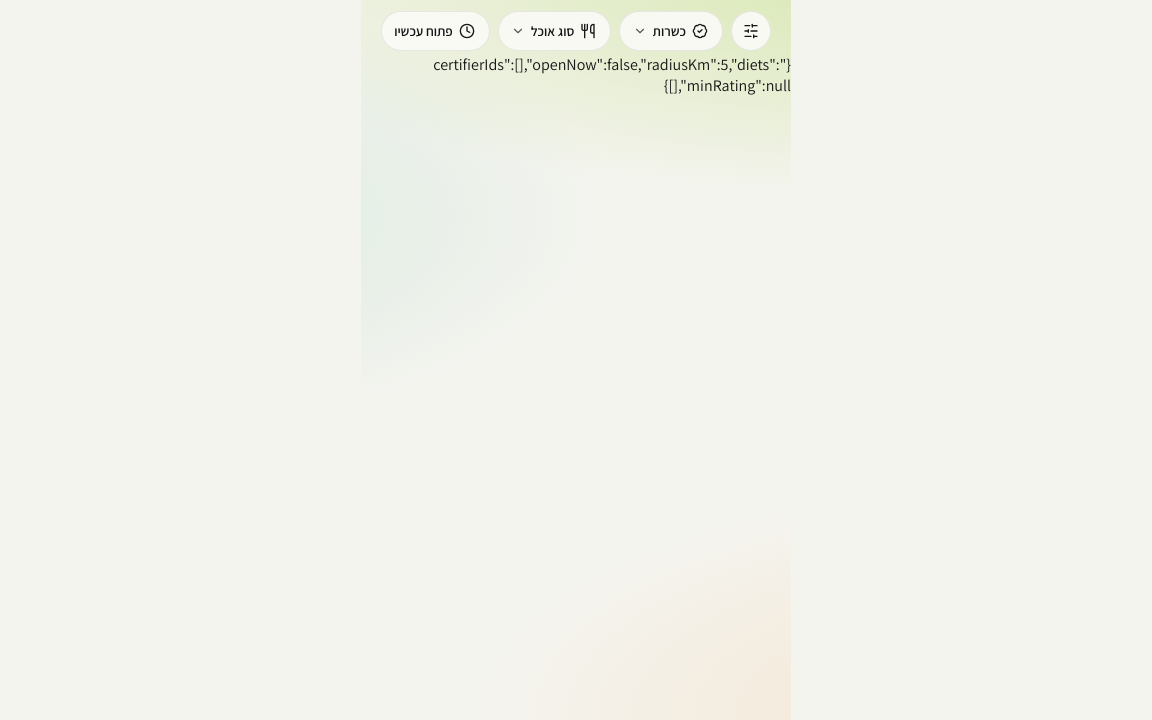
filter sheet › stages its changes until they are applied
Click the button named "סינון תוצאות" at (751, 31), box [731,11,771,51]
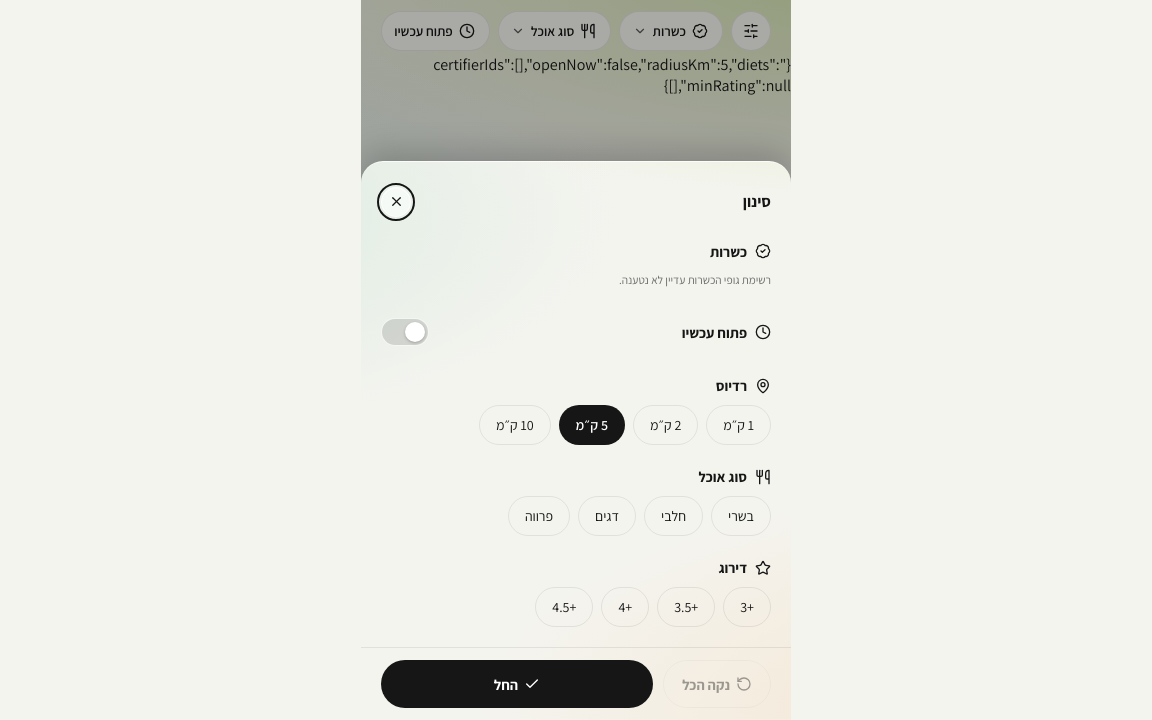
Click the button "חלבי" at (674, 516), box [644,496,703,536]
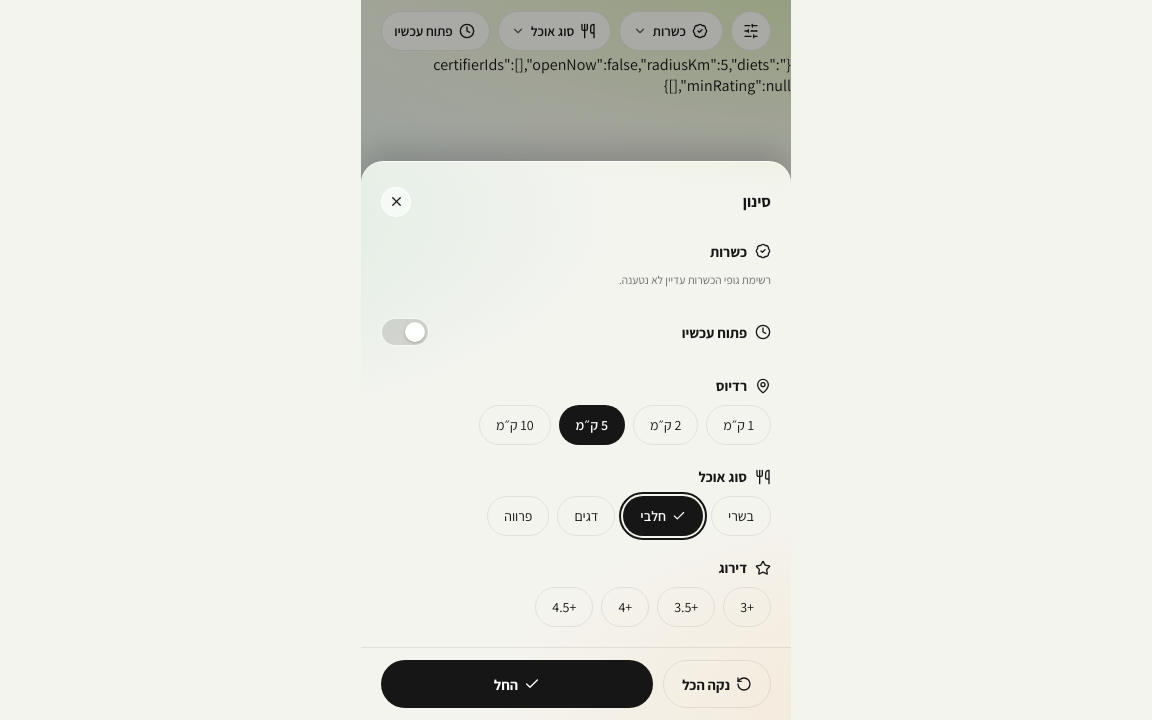
Click the switch labelled "פתוח עכשיו" at (714, 332), box [381,310,771,354]
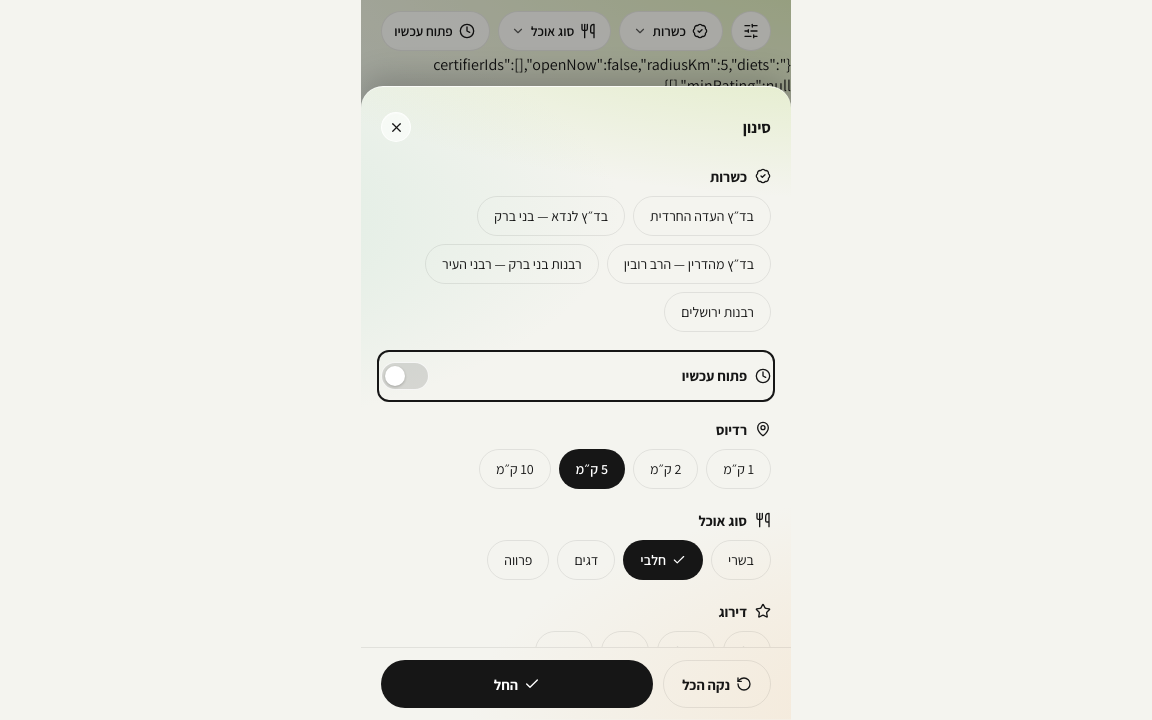
Click the button "החל" at (517, 684), box [381,660,653,708]
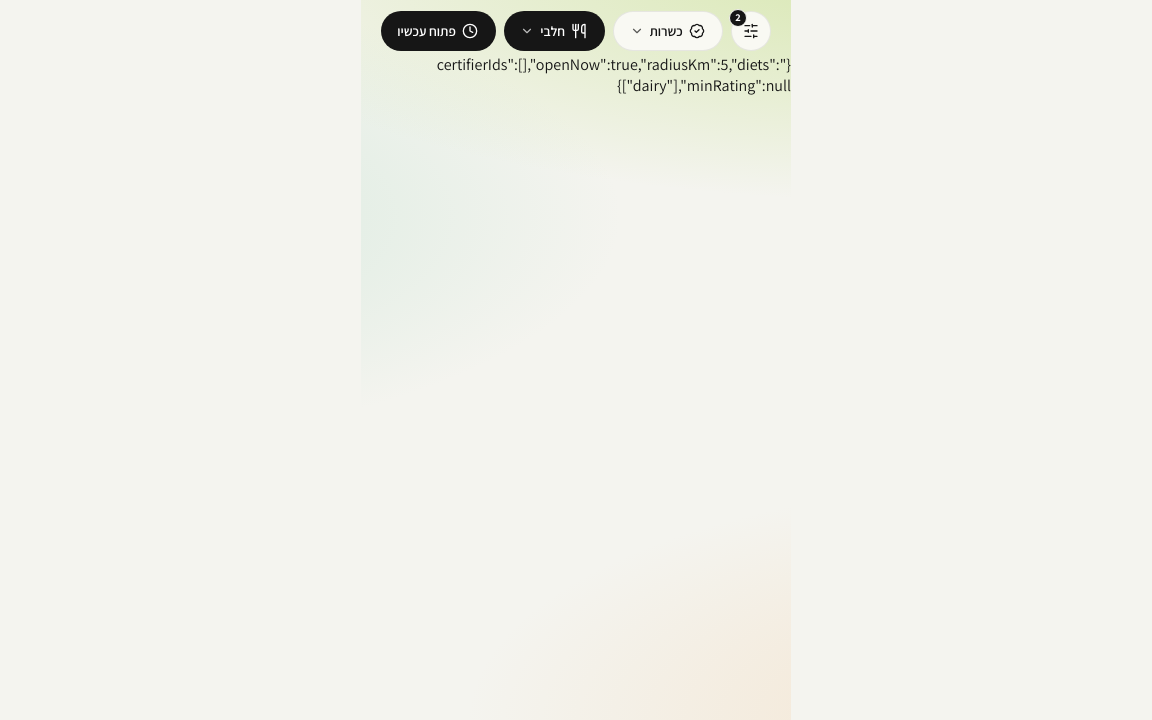
Check: the dialog is gone
